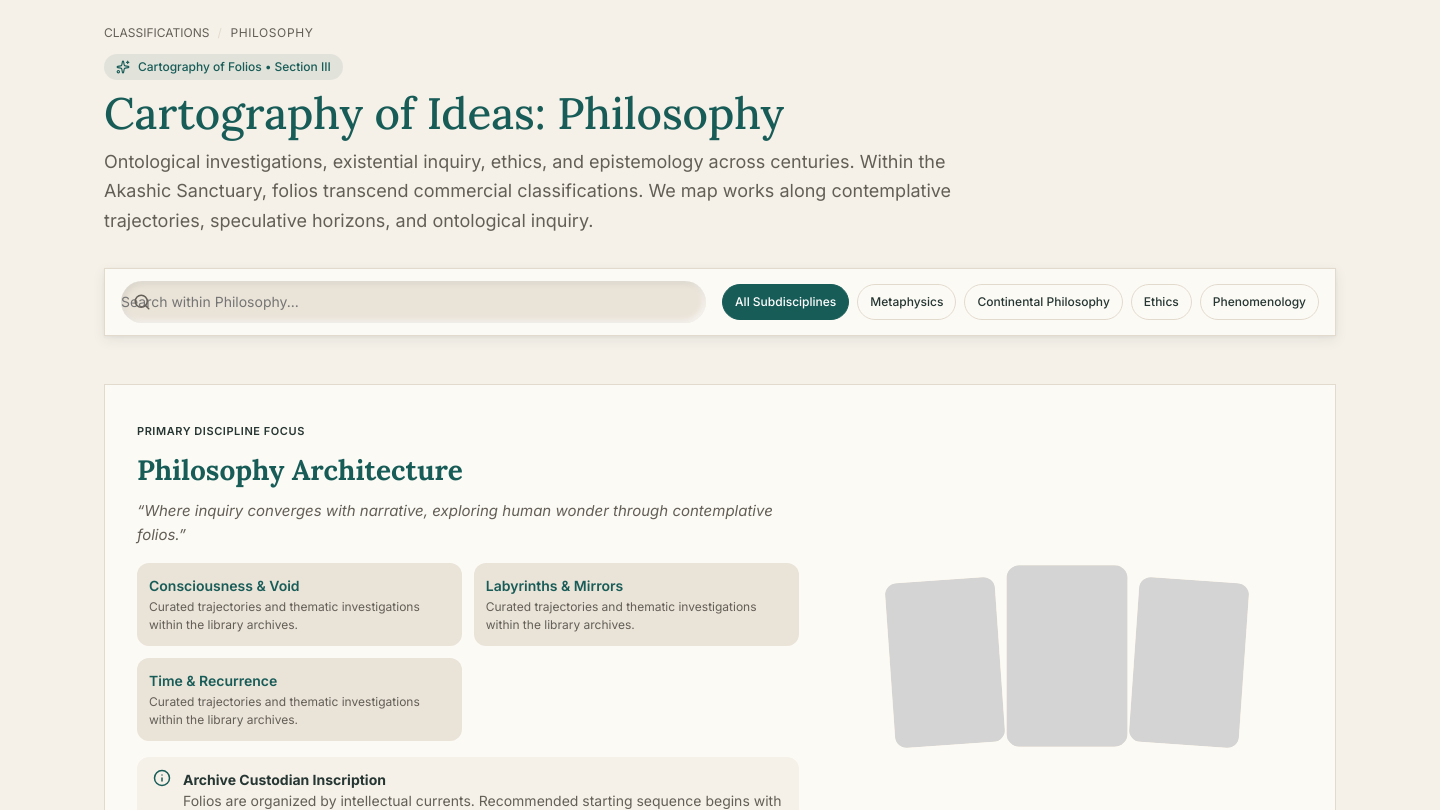
it: GenreDetailPage Component › navigates back to genres index when clicking breadcrumb
The image size is (1440, 810).
Click the button "Classifications". click: point(157, 33)
box: [104, 24, 209, 42]
(page scrolled)
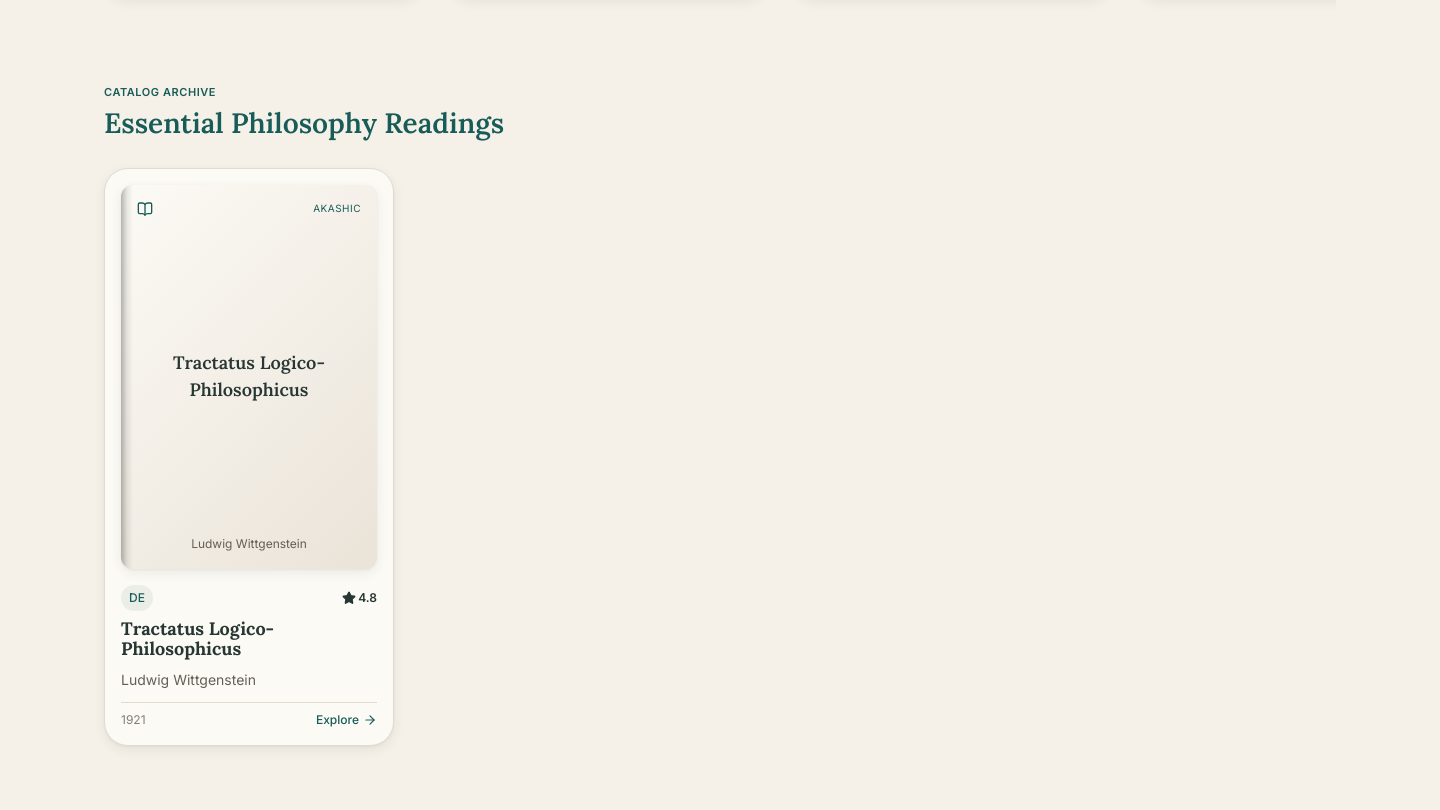
expect the element "Tractatus Logico-Philosophicus" is shown: met, box [104, 168, 394, 746]
